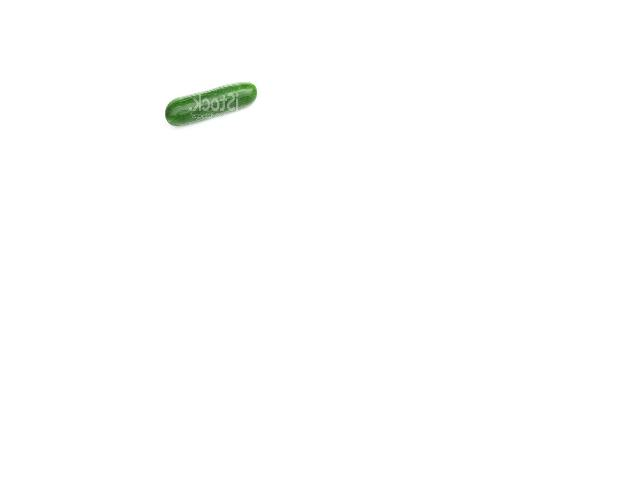cucumber: (164, 82, 256, 126)
